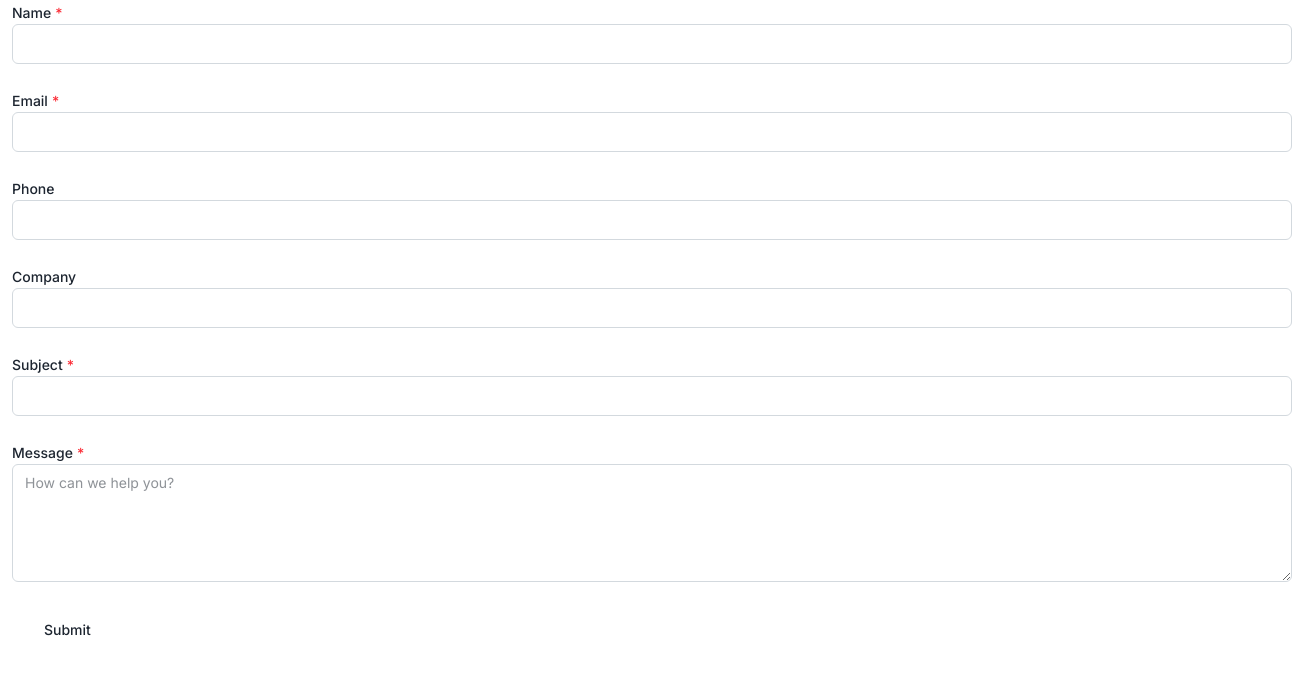
Test case: ContactForm › Form Submission › displays error message on submission failure
In the field labelled "Name*": [652, 44] box [12,24,1292,64], type "John Doe"
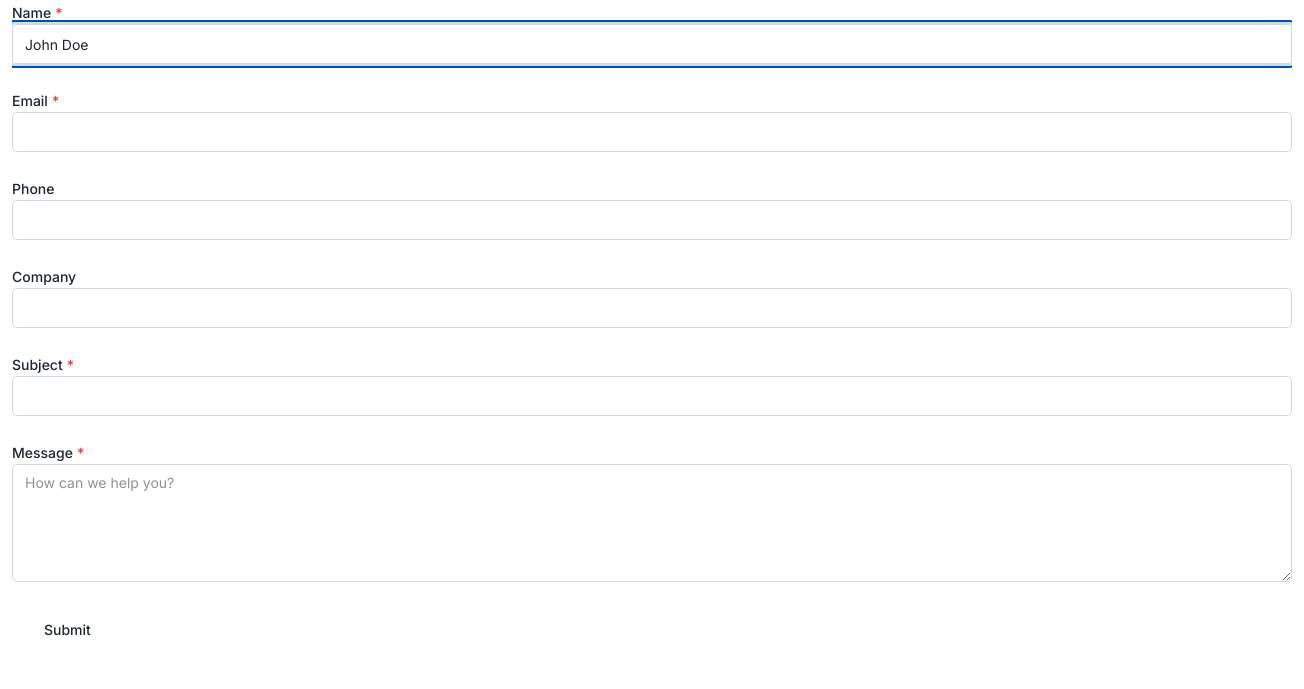
In the field labelled "Email*": [652, 132] box [12,112,1292,152], type "john@example.com"
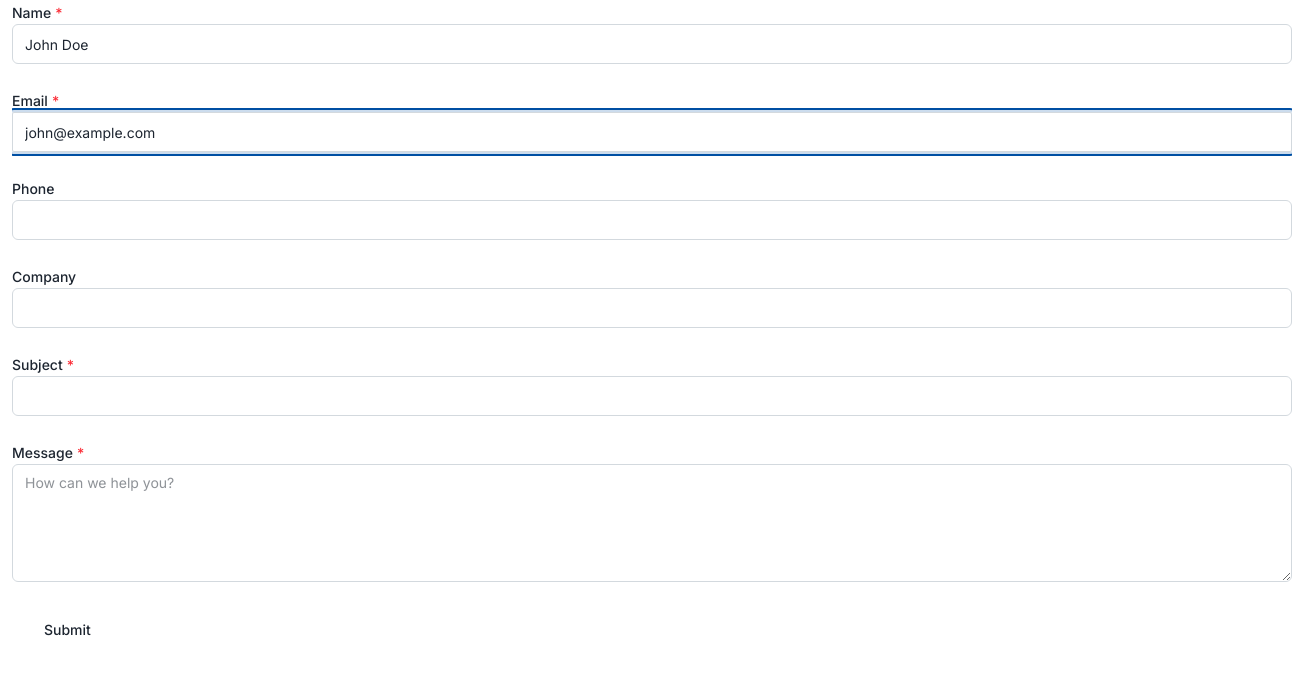
In the field labelled "Subject*": [652, 396] box [12,376,1292,416], type "General Inquiry"
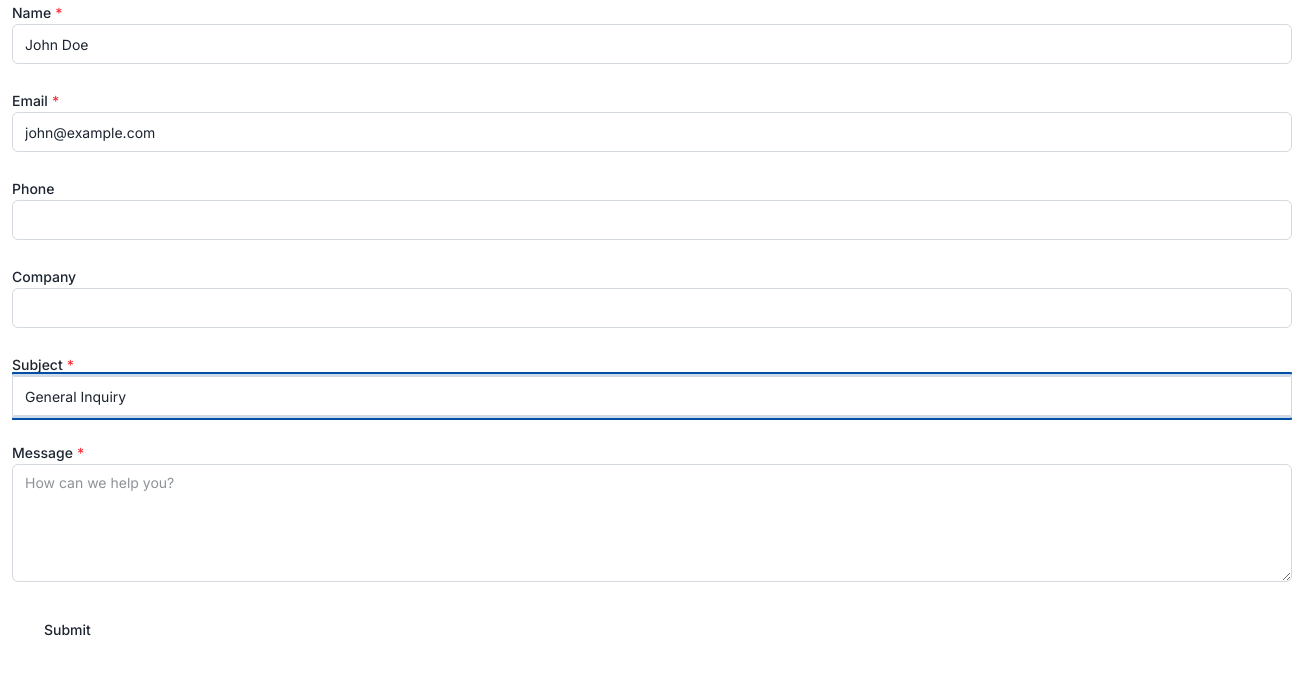
In the text box labelled "Message*": [652, 523] box [12,464,1292,582], type "I have a question about your services"
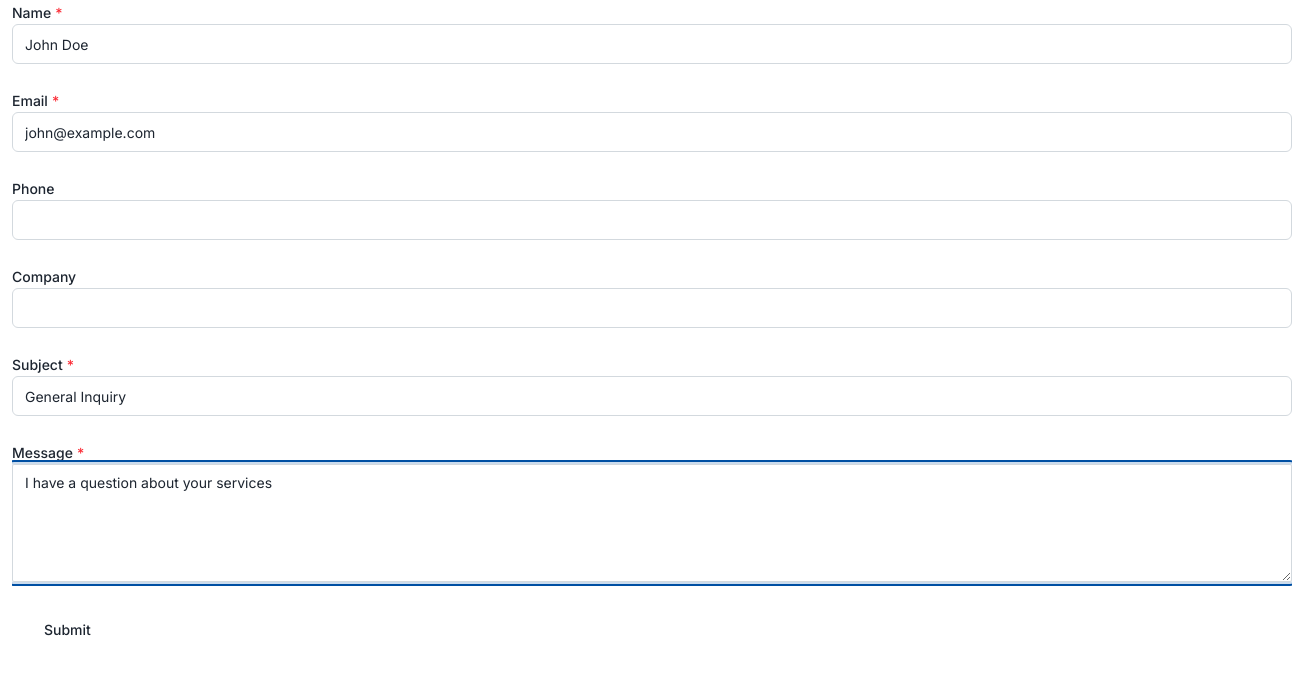
Click the button "Submit": [67, 630] box [12,606,123,654]
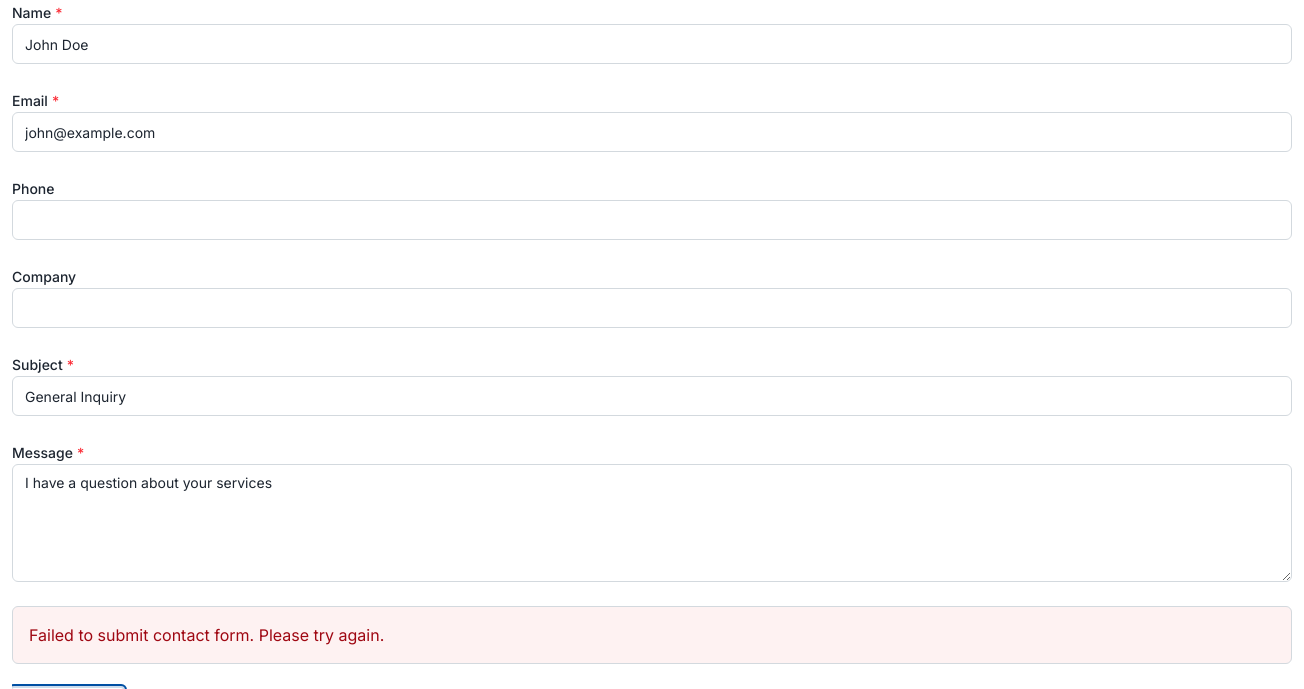
Result: the text "Failed to submit contact form. Please try again." is shown at [12,606,1292,664]
